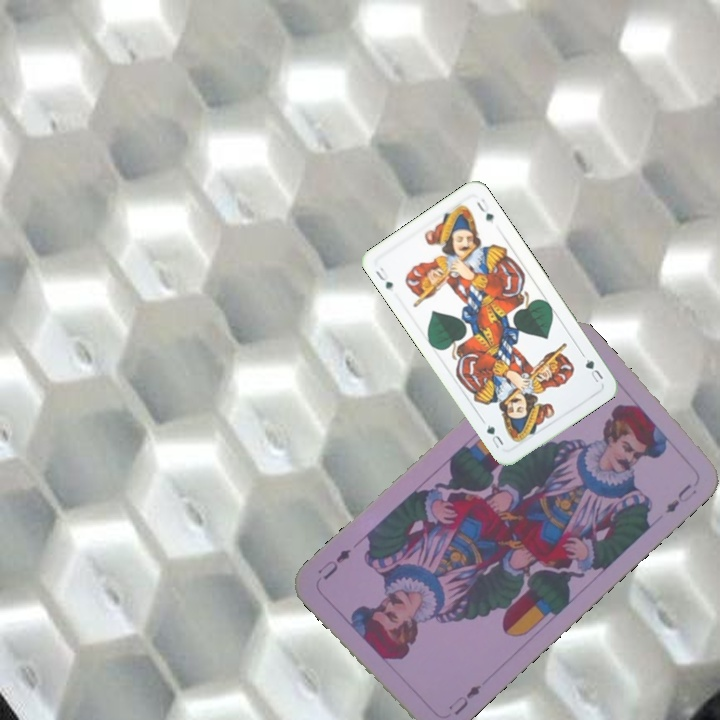EU: (444, 680, 484, 718)
GU: (581, 355, 606, 385), (371, 263, 396, 292)
